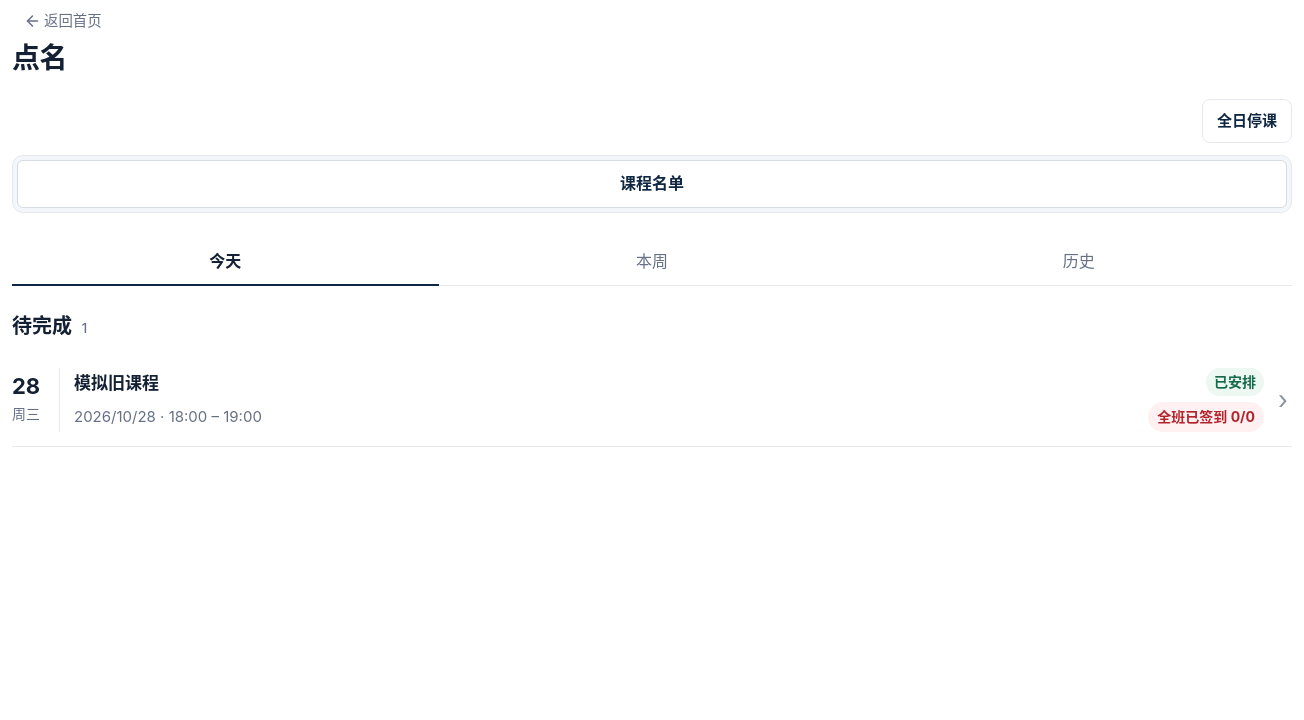
Scenario: hidden all-day preview pauses focus/reconnect reads and generation, reopening rechecks protection without regenerating
The width and height of the screenshot is (1304, 720).
Expected: the link "模拟旧课程" is shown, [12, 354, 1292, 446]
Click the button "全日停课": [1247, 121] box [1202, 99, 1292, 143]
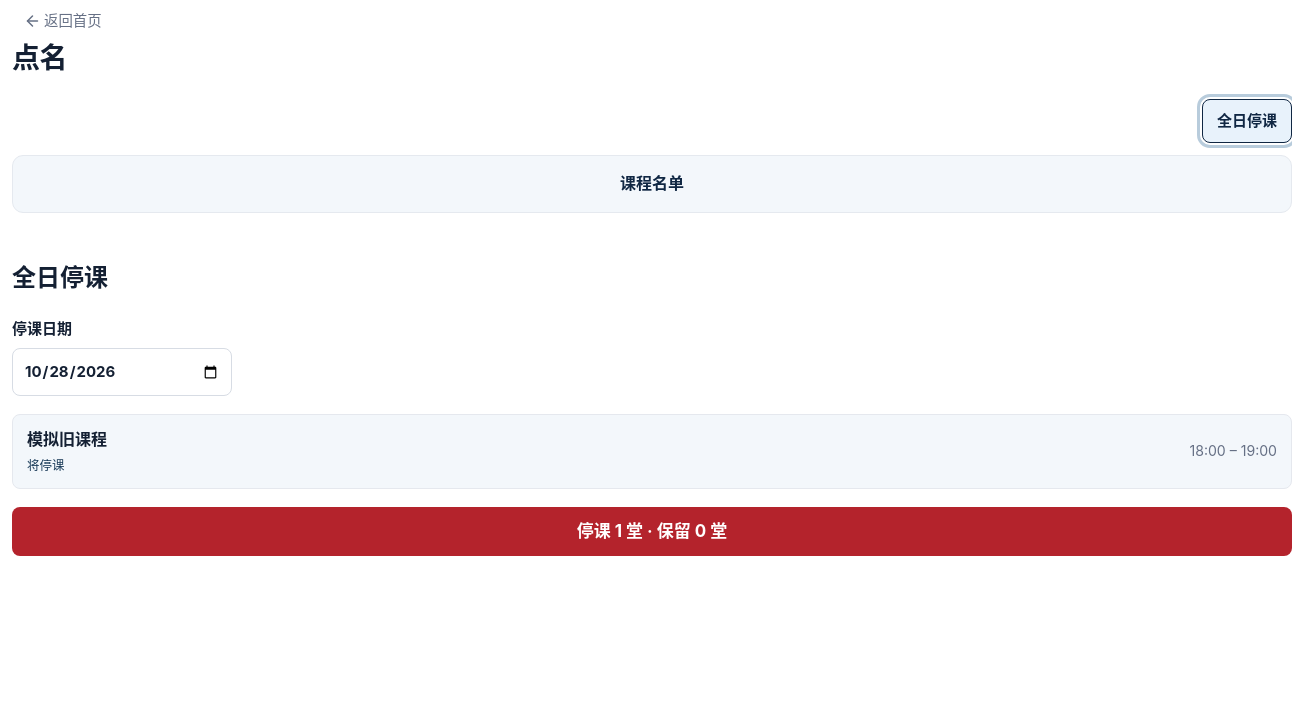
Expected: the button "停课 1 堂 · 保留 0 堂" is shown, [12, 507, 1292, 556]
Click the button "课程名单": [652, 184] box [17, 160, 1287, 208]
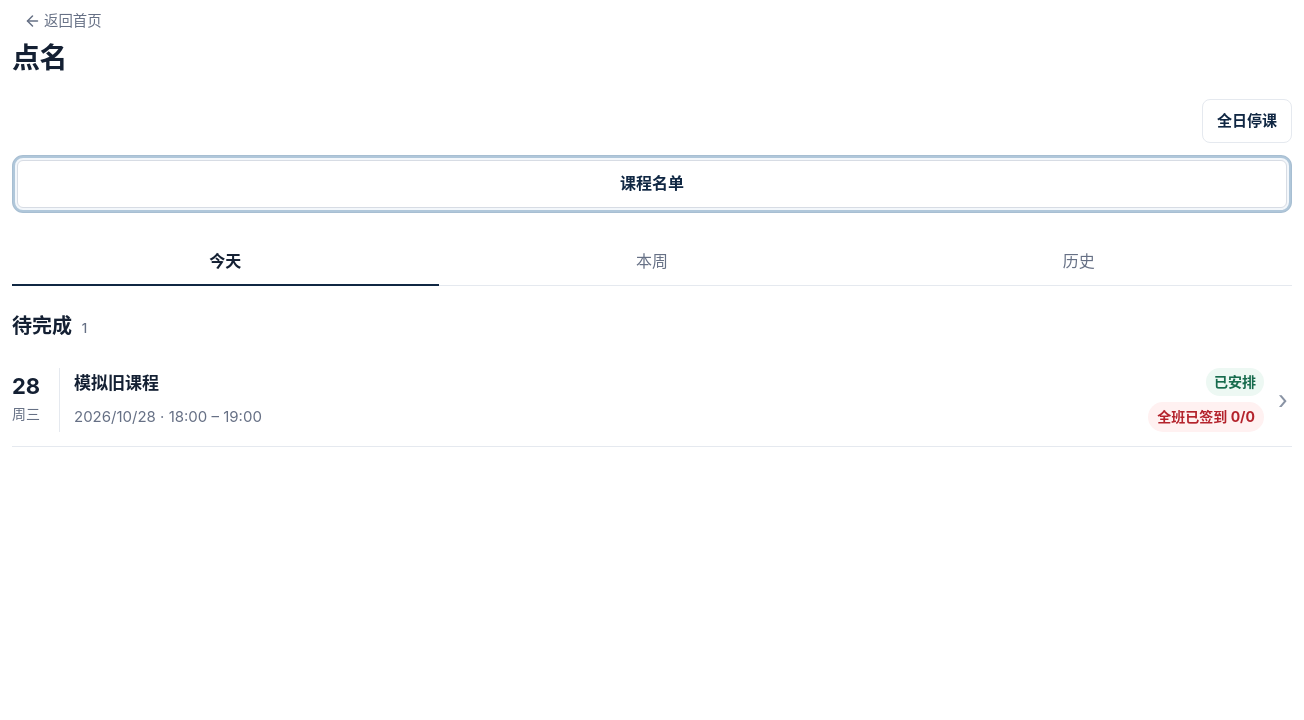
Click the button "全日停课": [1247, 121] box [1202, 99, 1292, 143]
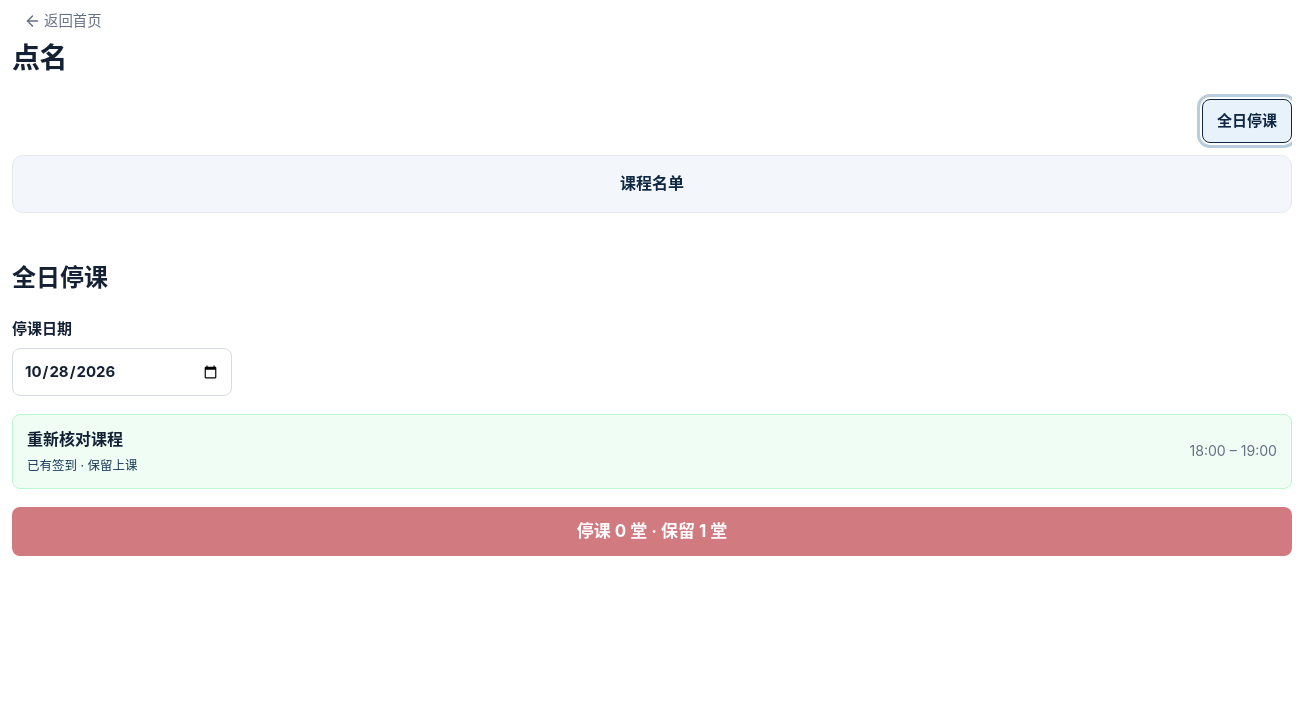
Expected: the text "重新核对课程" is shown, [27, 427, 137, 453]
Expected: the button "停课 0 堂 · 保留 1 堂" is disabled, [12, 507, 1292, 556]
